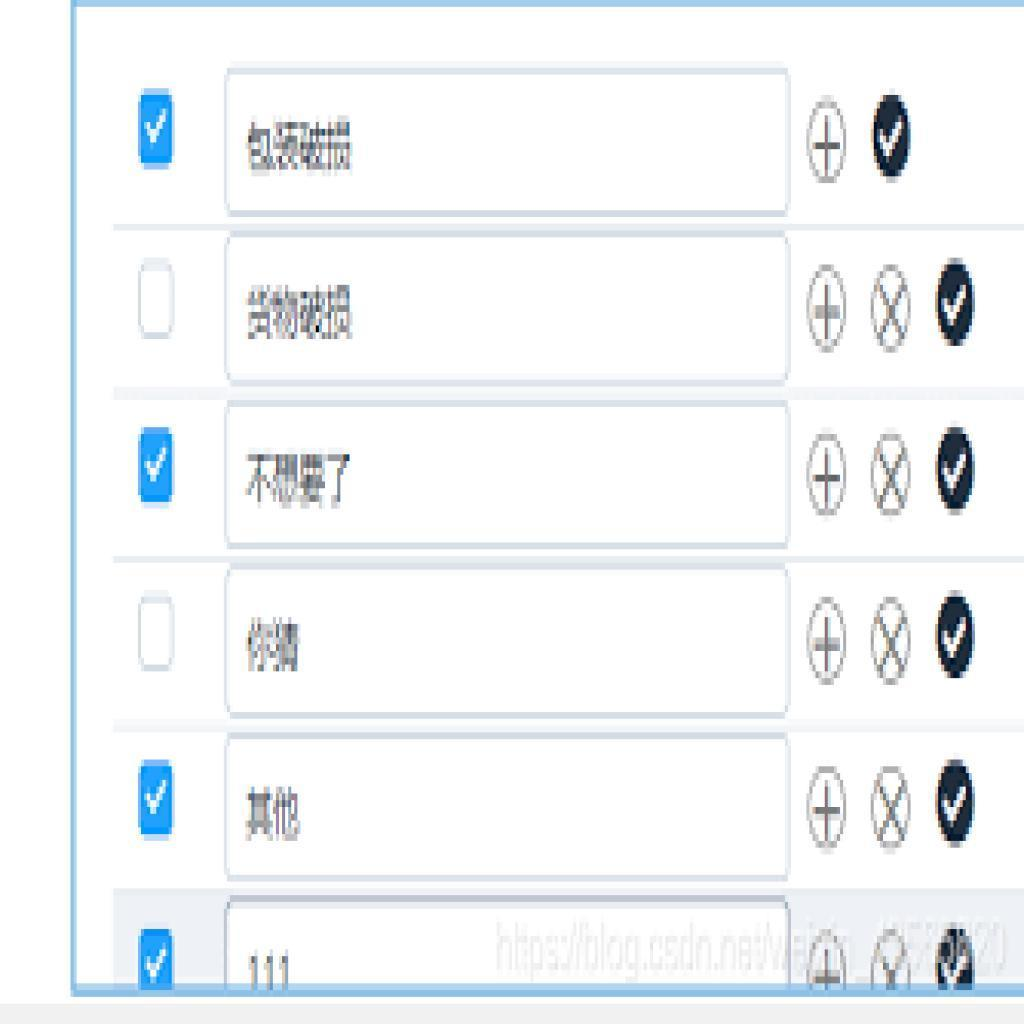checkbox: (931, 256, 983, 358), (931, 587, 983, 679), (931, 424, 979, 513), (870, 88, 914, 185), (930, 762, 980, 843), (136, 762, 177, 836), (934, 922, 977, 989), (138, 264, 177, 334), (140, 600, 176, 670), (141, 92, 173, 167), (141, 429, 174, 500), (140, 933, 174, 989)
input: (223, 567, 788, 717), (225, 236, 790, 383), (229, 72, 794, 215), (225, 737, 790, 880), (225, 406, 790, 546), (229, 900, 790, 989)
